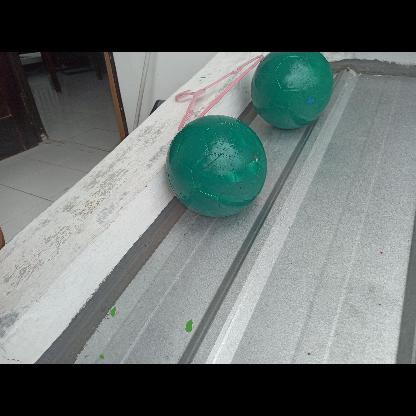green_ball: (166, 113, 266, 214)
